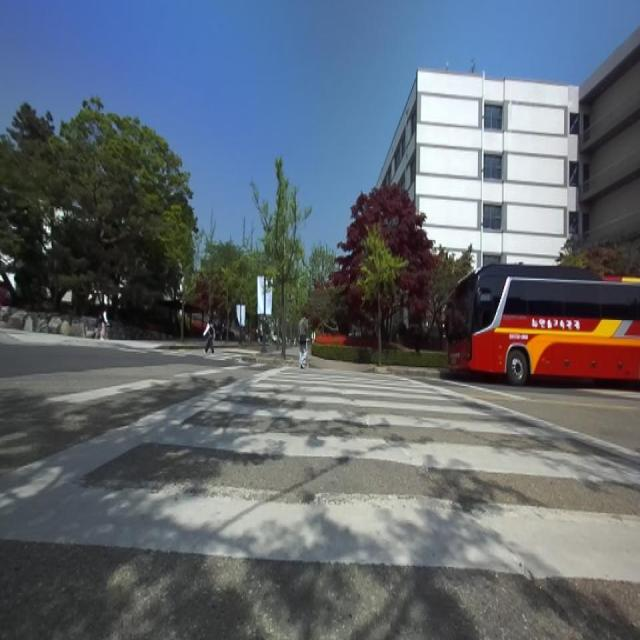sidewalk: (0, 328, 204, 349), (308, 348, 374, 371), (242, 351, 281, 358), (287, 347, 299, 361), (214, 341, 238, 346)
